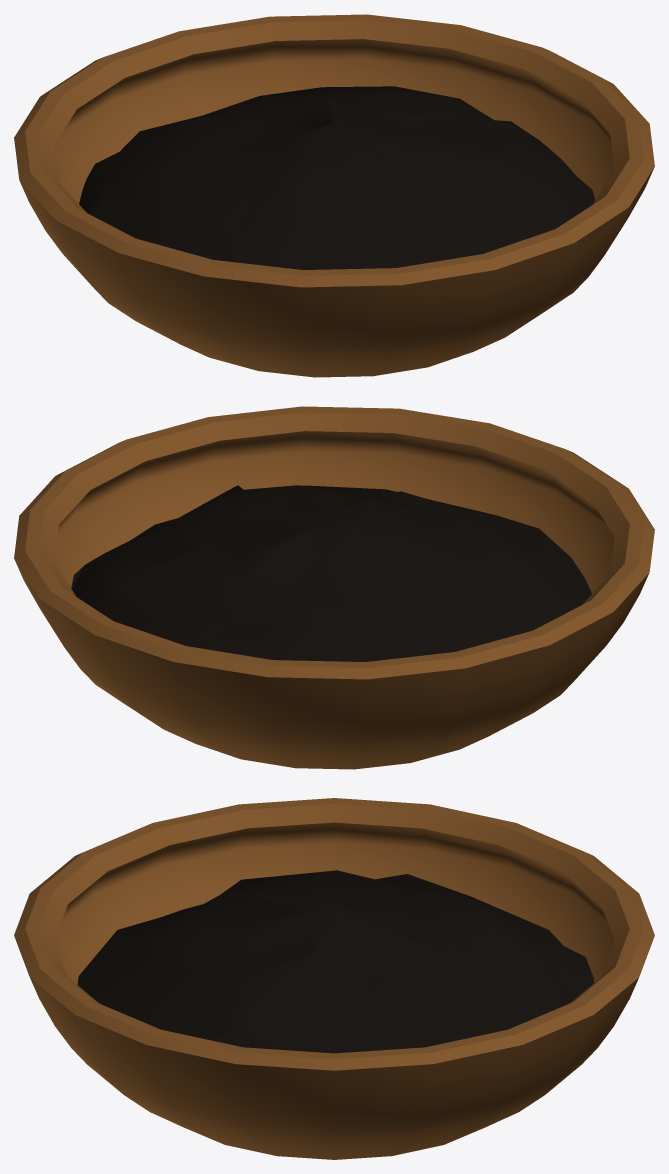
The model's file is mesh_bowl_pepper.fbx.
The picture shows the model from 3 angles, top to bottom: view 1: azimuth 30°, elevation 25°; view 2: azimuth 150°, elevation 25°; view 3: azimuth 270°, elevation 25°; orthographic projection.
Parts seen in each view (by area): view 1: mesh_bowl_pepper; view 2: mesh_bowl_pepper; view 3: mesh_bowl_pepper.
Part boxes in pixels (x1,y1,x2,y2): mesh_bowl_pepper: [14, 14, 654, 377]; mesh_bowl_pepper: [14, 406, 654, 769]; mesh_bowl_pepper: [14, 798, 654, 1159].
Bounding box in the file's own units: 0.1378 × 0.041 × 0.1379.
